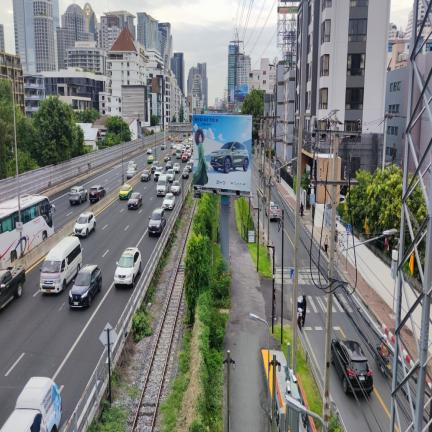bus: (20, 195, 53, 253), (0, 199, 20, 268)
car: (330, 338, 373, 394), (69, 265, 101, 307), (114, 247, 141, 287), (73, 212, 96, 236), (148, 208, 166, 236), (69, 186, 87, 204), (89, 185, 106, 202), (128, 193, 142, 208), (162, 193, 175, 209), (270, 202, 280, 220), (171, 180, 181, 194), (154, 166, 163, 181), (126, 168, 137, 179), (166, 169, 175, 182), (141, 170, 151, 181), (151, 161, 159, 172), (128, 161, 137, 169), (182, 167, 189, 177), (165, 160, 172, 170), (173, 163, 179, 172), (265, 207, 267, 215)
human: (381, 334, 388, 358), (302, 293, 306, 326), (271, 288, 275, 317), (324, 235, 328, 254), (300, 202, 304, 217)
motorbike: (376, 343, 391, 377)
pickup: (0, 378, 62, 431), (0, 265, 25, 308), (182, 152, 189, 162)
taxi: (119, 184, 132, 199), (147, 155, 154, 163)
truck: (176, 145, 181, 158)
van: (40, 237, 82, 293), (157, 175, 168, 196)
